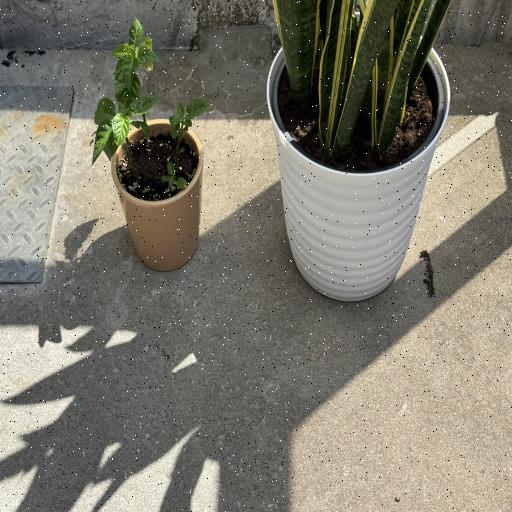Plant Pot: (268, 33, 449, 301), (110, 122, 202, 272)
